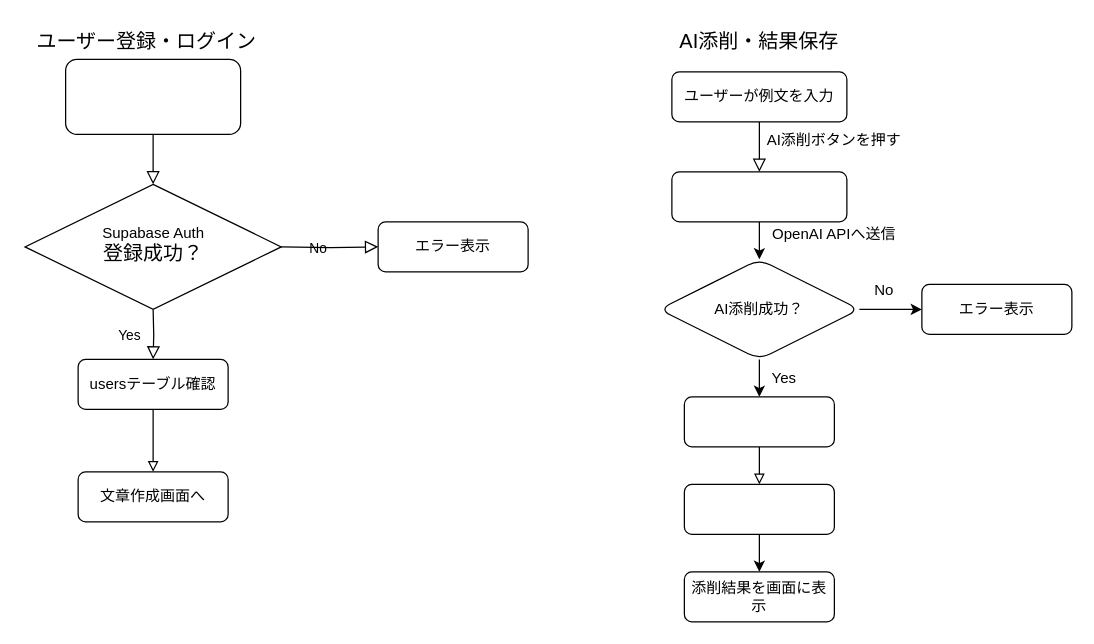
This 1094x644 diagram has some shape labels left out. The centre of each missing label's shape, as x and y in pixels:
"ai_feedbacksに保存" belongs at pixel 758 508.
"user_sentences に元の文章を保存" belongs at pixel 759 196.
"ユーザー登録 / ログイン" belongs at pixel 152 96.
"添削結果を受け取る" belongs at pixel 758 421.
